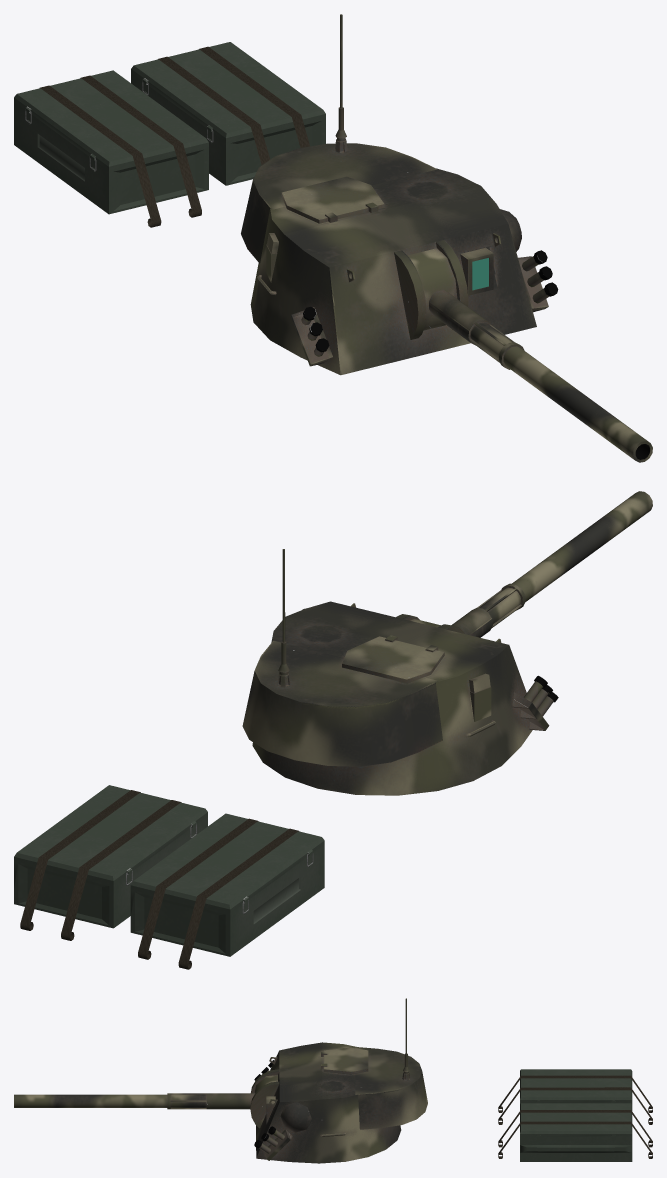
The model's file is mortar.fbx.
3 renders of one model, top to bottom at view 1: azimuth 30°, elevation 25°; view 2: azimuth 150°, elevation 25°; view 3: azimuth 270°, elevation 25°, orthographic. The views are drawn at different scales.
Visible parts, largest first — view 1: mortar_turret_LOD0, boxes_LOD0, mortar_barrel_LOD0; view 2: mortar_turret_LOD0, boxes_LOD0, mortar_barrel_LOD0; view 3: mortar_turret_LOD0, boxes_LOD0, mortar_barrel_LOD0.
Part boxes in pixels (x1,y1,x2,y2): mortar_turret_LOD0: [241, 14, 558, 375]; boxes_LOD0: [14, 42, 325, 227]; mortar_barrel_LOD0: [429, 290, 652, 462]; mortar_turret_LOD0: [242, 549, 558, 795]; boxes_LOD0: [14, 785, 324, 969]; mortar_barrel_LOD0: [451, 491, 652, 637]; mortar_turret_LOD0: [250, 998, 427, 1163]; boxes_LOD0: [498, 1069, 652, 1161]; mortar_barrel_LOD0: [14, 1093, 254, 1109].
Size of what is drawn, in the model's own units: 2.41 by 2.31 by 9.3.
